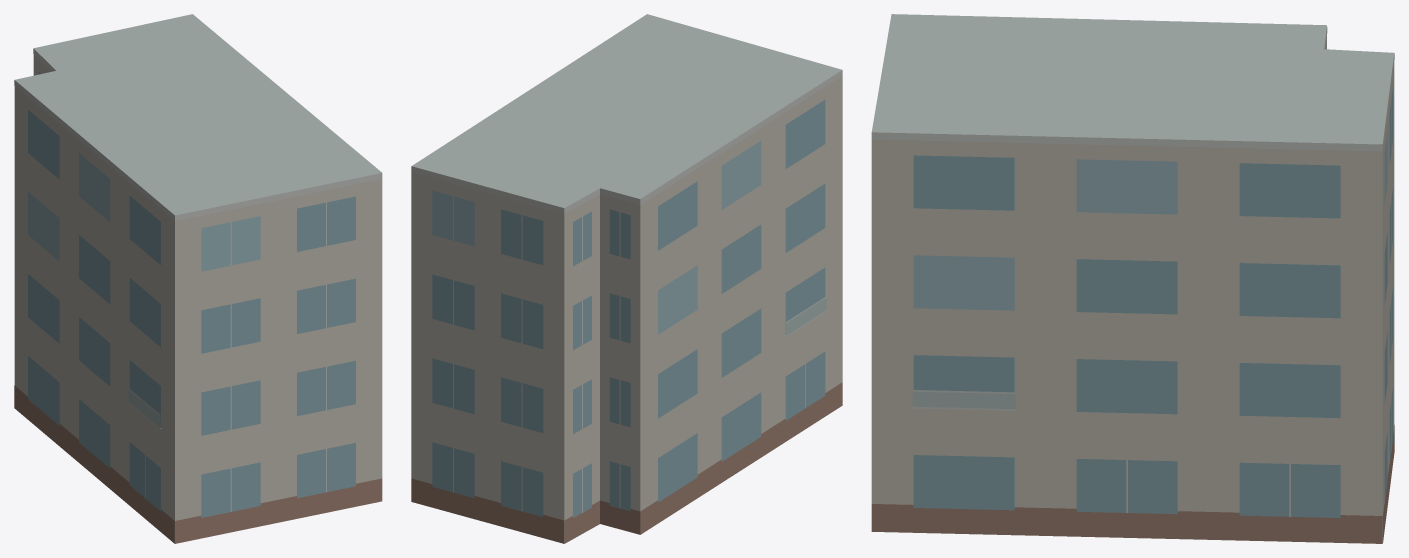
Rendered from survey-upis-32968404.glb.
3 renders of one model, left to right at view 1: azimuth 30°, elevation 25°; view 2: azimuth 150°, elevation 25°; view 3: azimuth 270°, elevation 25°, orthographic. The views are drawn at different scales.
Parts seen in each view (by area): view 1: survey-upis-32968404.tmp; view 2: survey-upis-32968404.tmp; view 3: survey-upis-32968404.tmp.
Part boxes in pixels (x1=…): survey-upis-32968404.tmp: x1=14, y1=14, x2=382, y2=543; survey-upis-32968404.tmp: x1=411, y1=14, x2=842, y2=543; survey-upis-32968404.tmp: x1=871, y1=14, x2=1394, y2=543.
Bounding box in the file's own units: 9.61 × 13.7 × 16.26.
